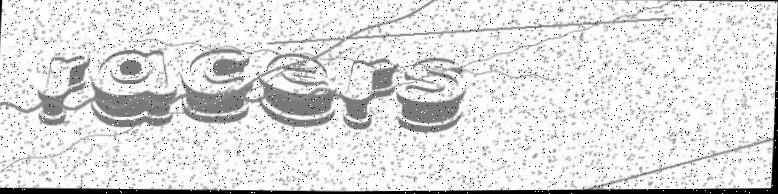a: (91, 47, 177, 127)
c: (177, 42, 254, 124)
e: (253, 47, 341, 129)
r: (35, 49, 95, 125), (340, 55, 398, 131)
s: (396, 55, 468, 133)
